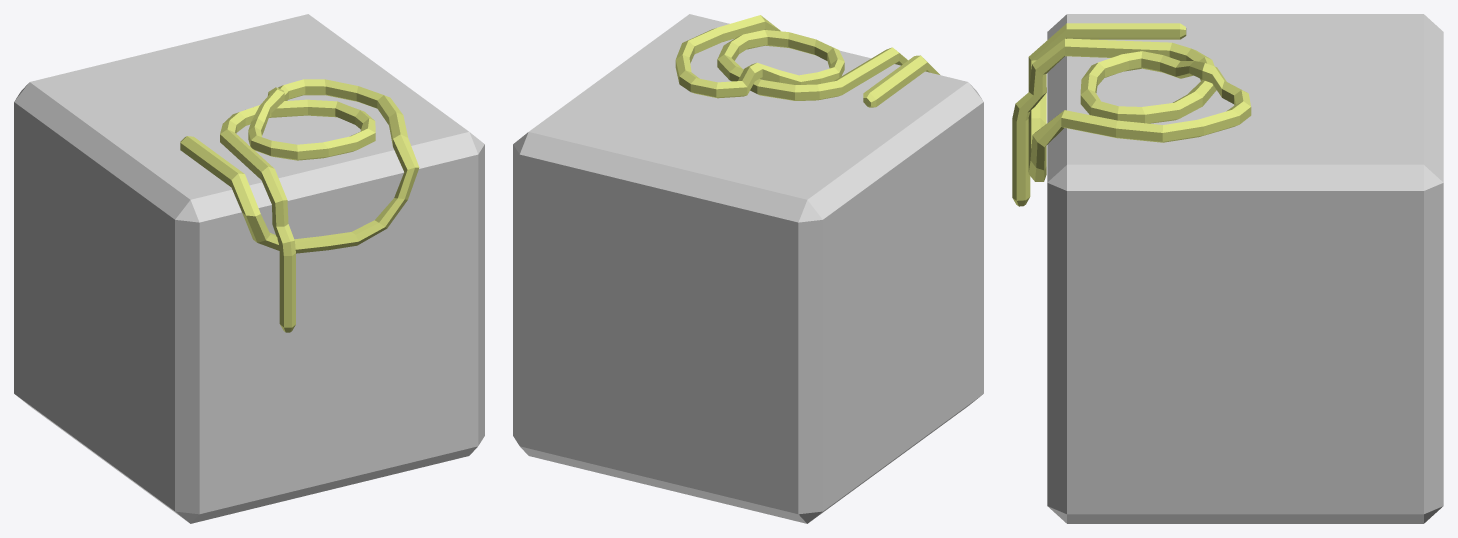
Rendered from ClimbStone.fbx.
3 renders of one model, left to right at view 1: azimuth 30°, elevation 25°; view 2: azimuth 150°, elevation 25°; view 3: azimuth 270°, elevation 25°, orthographic. The views are drawn at different scales.
Parts seen in each view (by area): view 1: Rock, Rope; view 2: Rock, Rope; view 3: Rock, Rope.
Part boxes in pixels (<box>): Rock: <box>14,14,484,523</box>; Rope: <box>180,79,419,332</box>; Rock: <box>513,14,983,523</box>; Rope: <box>675,15,939,107</box>; Rock: <box>1047,14,1443,523</box>; Rope: <box>1012,23,1251,206</box>.
Bounding box in the file's own units: 400 × 435 × 435.
